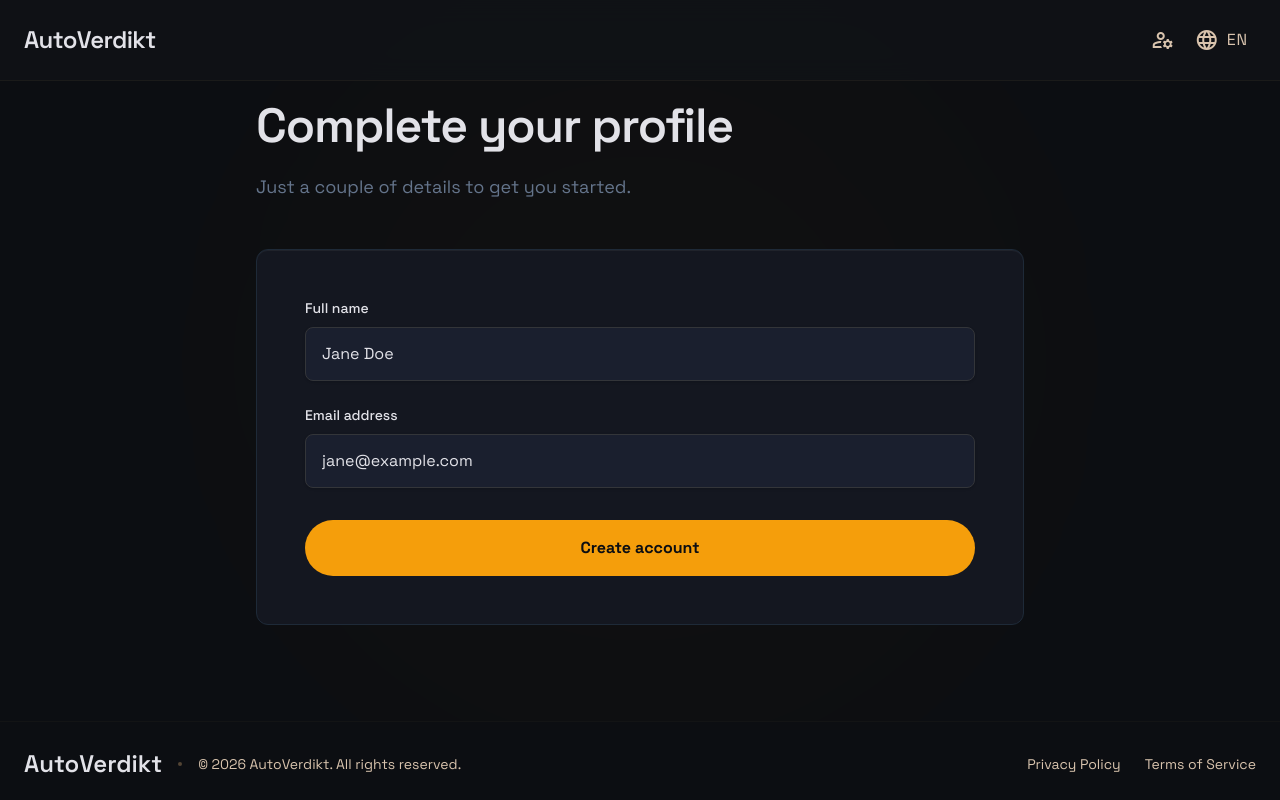
Scenario: RegisterPage › displays global error when API returns an error string
Click the button "Create account" at point(640, 548), box [305,520,975,576]
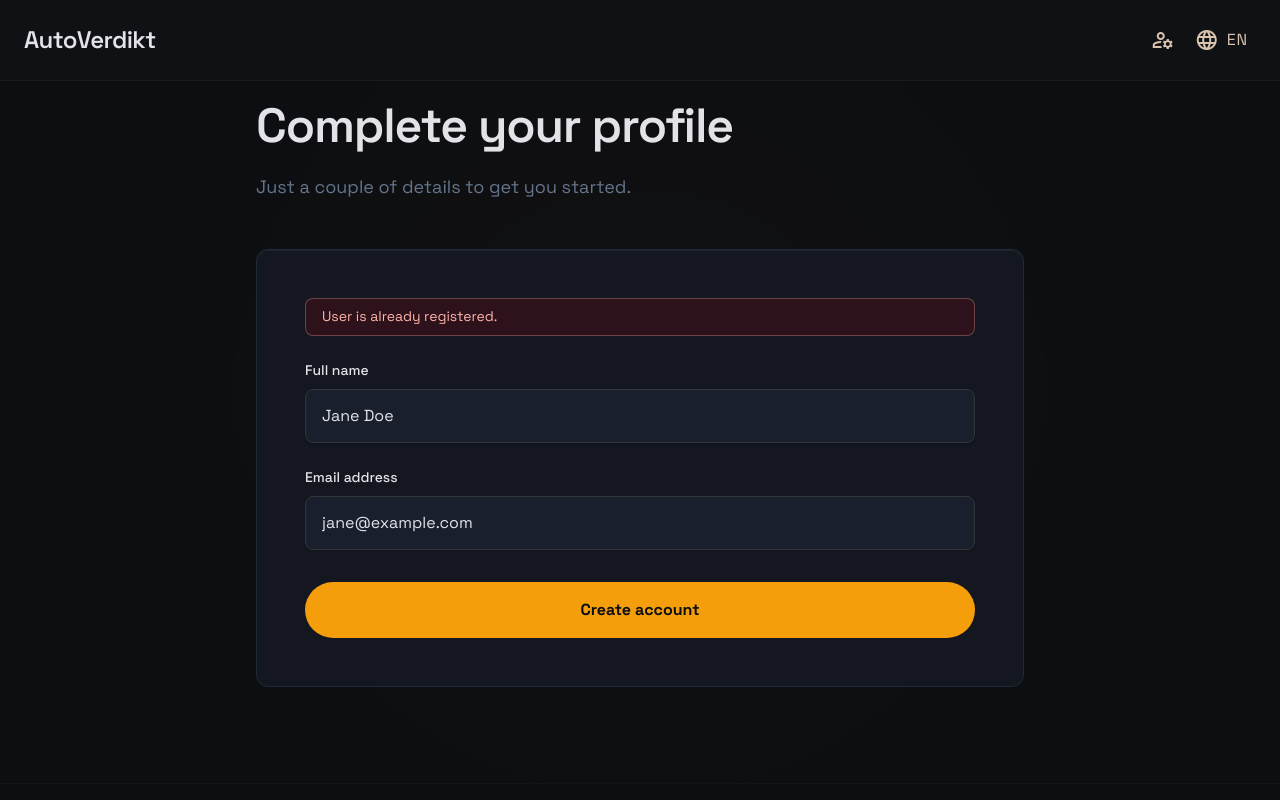
Expected: the text "User is already registered." is shown, [305,298,975,336]
